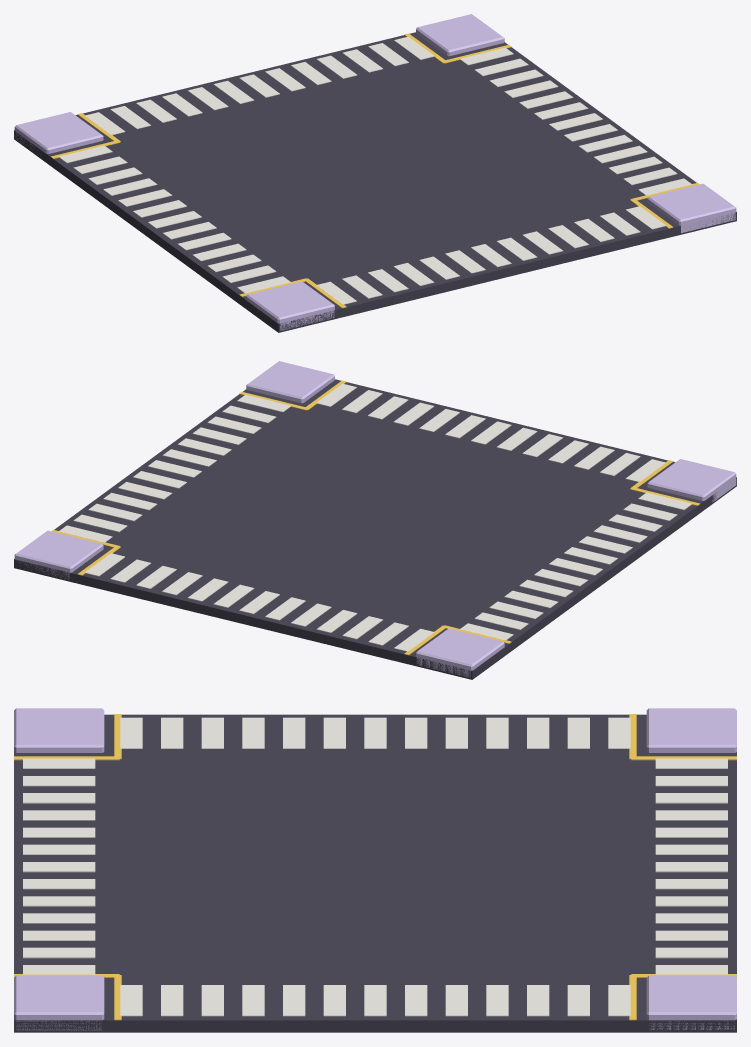
Rendered from road_cross.glb.
The picture shows the model from 3 angles, top to bottom: view 1: azimuth 30°, elevation 25°; view 2: azimuth 150°, elevation 25°; view 3: azimuth 270°, elevation 25°; orthographic projection. The views are drawn at different scales.
Parts seen in each view (by area): view 1: road_cross; view 2: road_cross; view 3: road_cross.
Boxes of the visible parts, bbox=[...] form: road_cross: bbox=[14, 14, 736, 332]; road_cross: bbox=[14, 361, 736, 679]; road_cross: bbox=[14, 708, 736, 1032].
Bounding box in the file's own units: 16 × 0.48 × 16.
